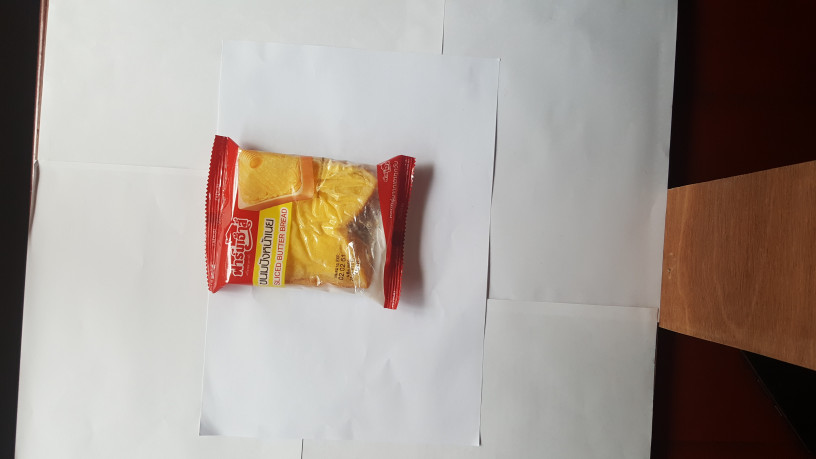farmhouse-bread-butter: (199, 130, 418, 314)
